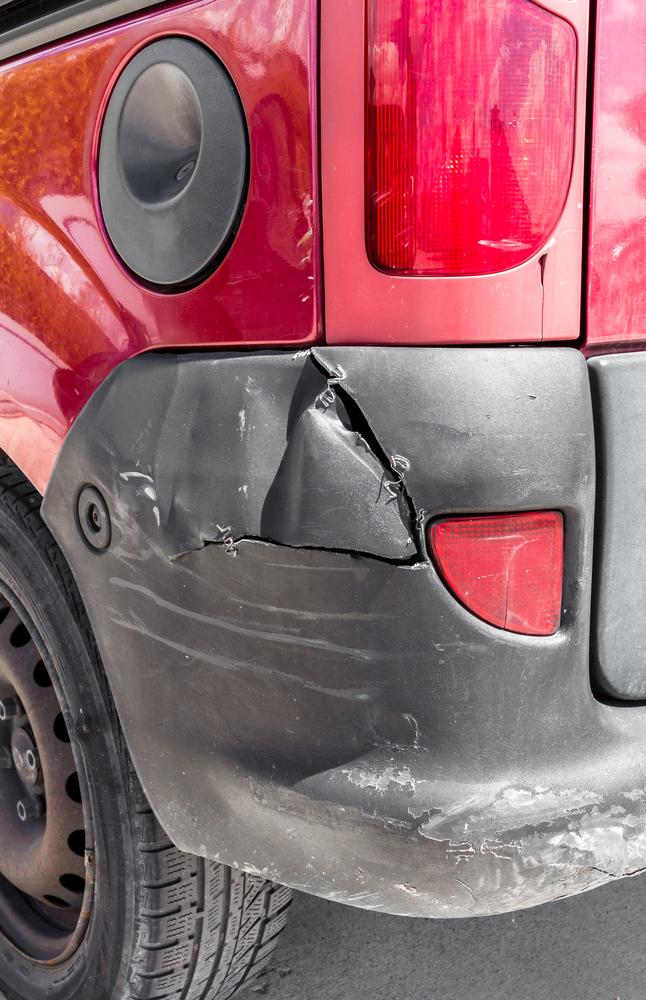crack: (169, 353, 428, 569)
scratch: (180, 758, 646, 916), (109, 459, 399, 697)
